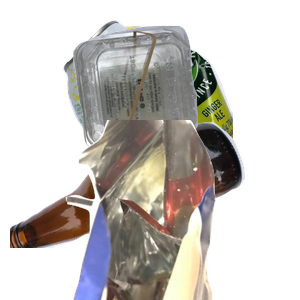glass: (10, 120, 247, 300)
metal: (60, 18, 300, 198)
plastic: (71, 23, 300, 169)
trash: (63, 120, 300, 300)
